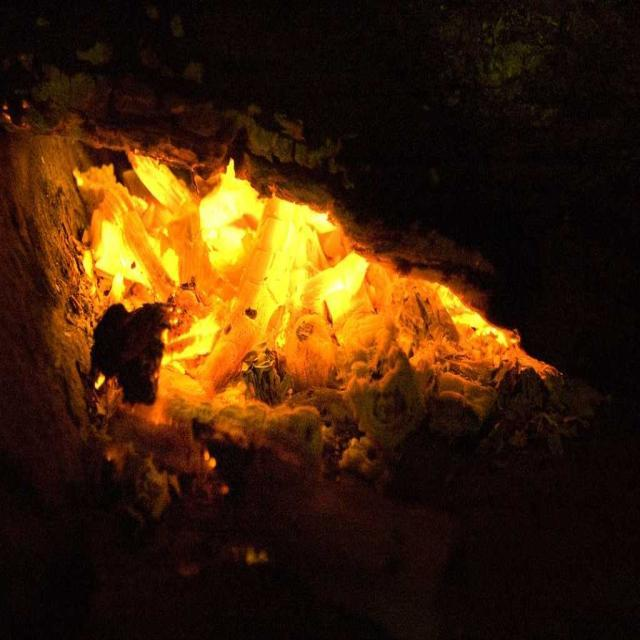Fire: (274, 198, 312, 298), (206, 170, 249, 258), (99, 220, 140, 280), (322, 263, 359, 307)
